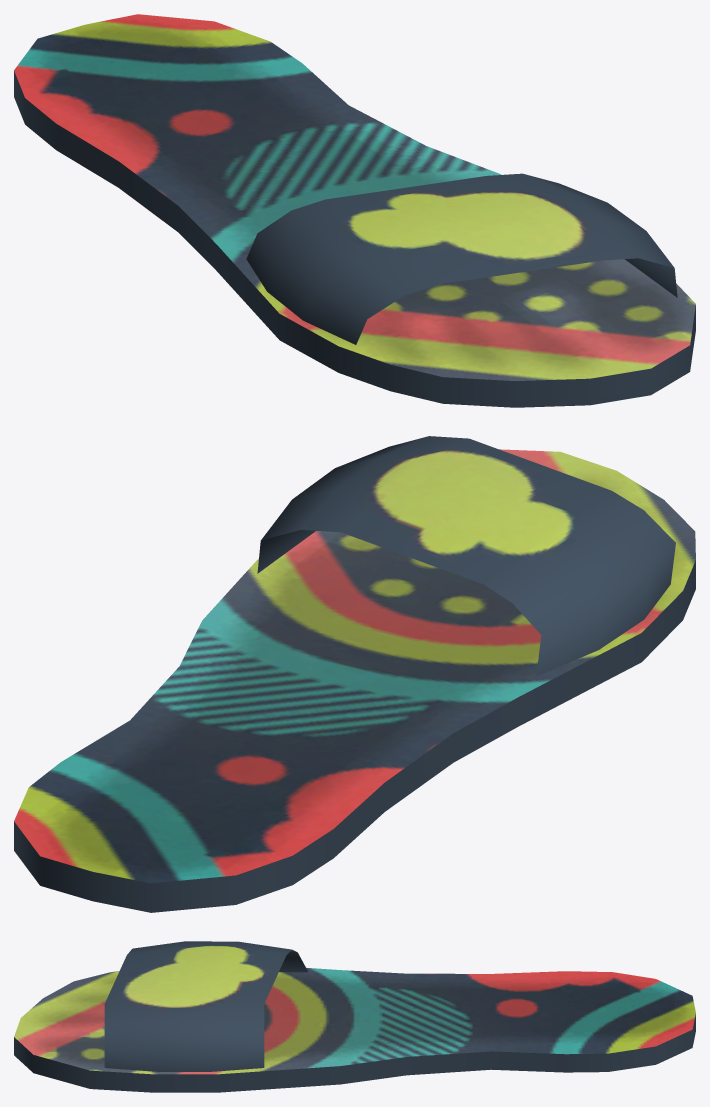
The model's file is p6_beach_sandals_04_right_lod0.glb.
3 views of the same model, one above another, from view 1: azimuth 30°, elevation 25°; view 2: azimuth 150°, elevation 25°; view 3: azimuth 270°, elevation 25° (orthographic). The views are drawn at different scales.
Visible parts, largest first — view 1: surf0; view 2: surf0; view 3: surf0.
Part boxes in pixels (bbox=[...]): surf0: bbox=[14, 14, 695, 407]; surf0: bbox=[14, 436, 695, 912]; surf0: bbox=[14, 941, 695, 1092].
Bounding box in the file's own units: 5.16 × 1.33 × 13.24.
